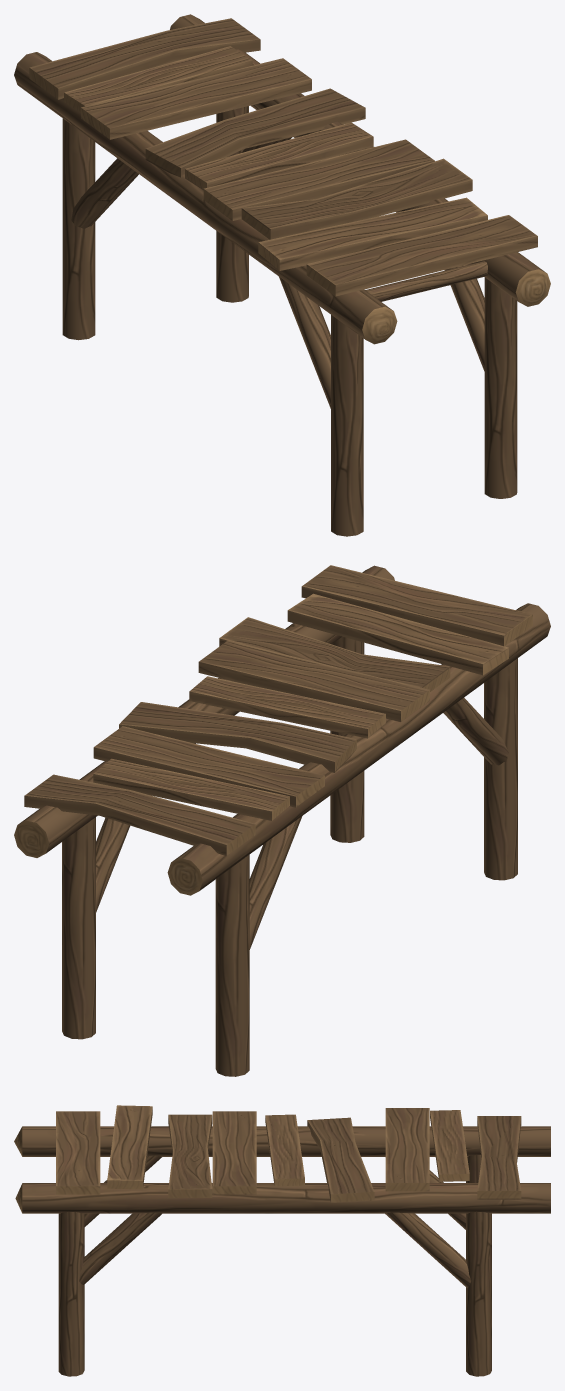
Rendered from Wood_el_02.fbx.
3 renders of one model, top to bottom at view 1: azimuth 30°, elevation 25°; view 2: azimuth 150°, elevation 25°; view 3: azimuth 270°, elevation 25°, orthographic. The views are drawn at different scales.
Parts seen in each view (by area): view 1: polySurface2052; view 2: polySurface2052; view 3: polySurface2052.
Part boxes in pixels (<box>): polySurface2052: <box>14,14,550,536</box>; polySurface2052: <box>14,565,550,1076</box>; polySurface2052: <box>14,1105,550,1376</box>.
Bounding box in the file's own units: 92.29 × 99.77 × 249.
Materials: 1 (1 with a texture image).
